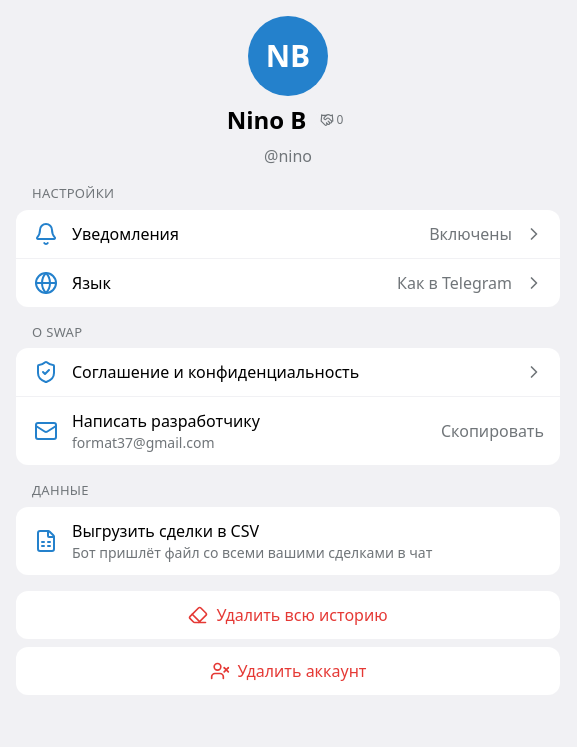
deleting (K2) › deletes all finished history and says what still runs
This screenshot has width=577, height=747.
What coordinates should you click on to do the following:
click the button "Удалить всю историю"
I would click on:
 (288, 614)
Its box is [16,590,560,638].
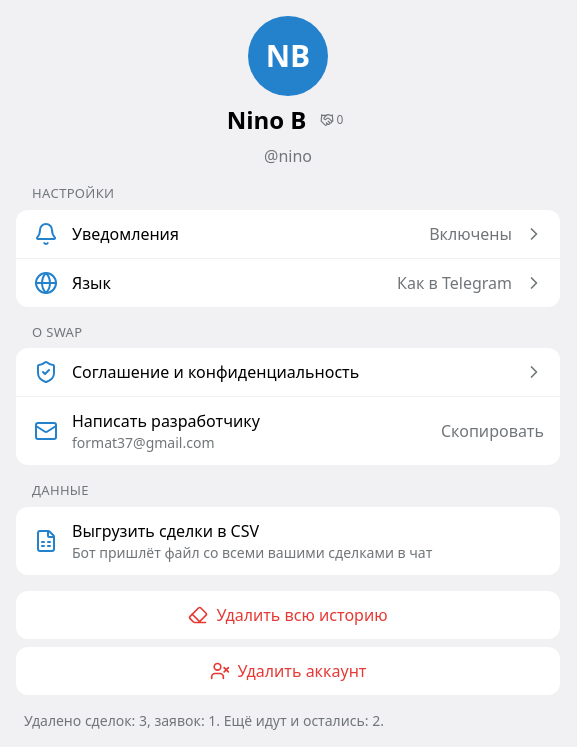
Check: the text "Удалено сделок: 3, заявок: 1. Ещё идут и остались: 2." is shown, box [24,710,384,730]
